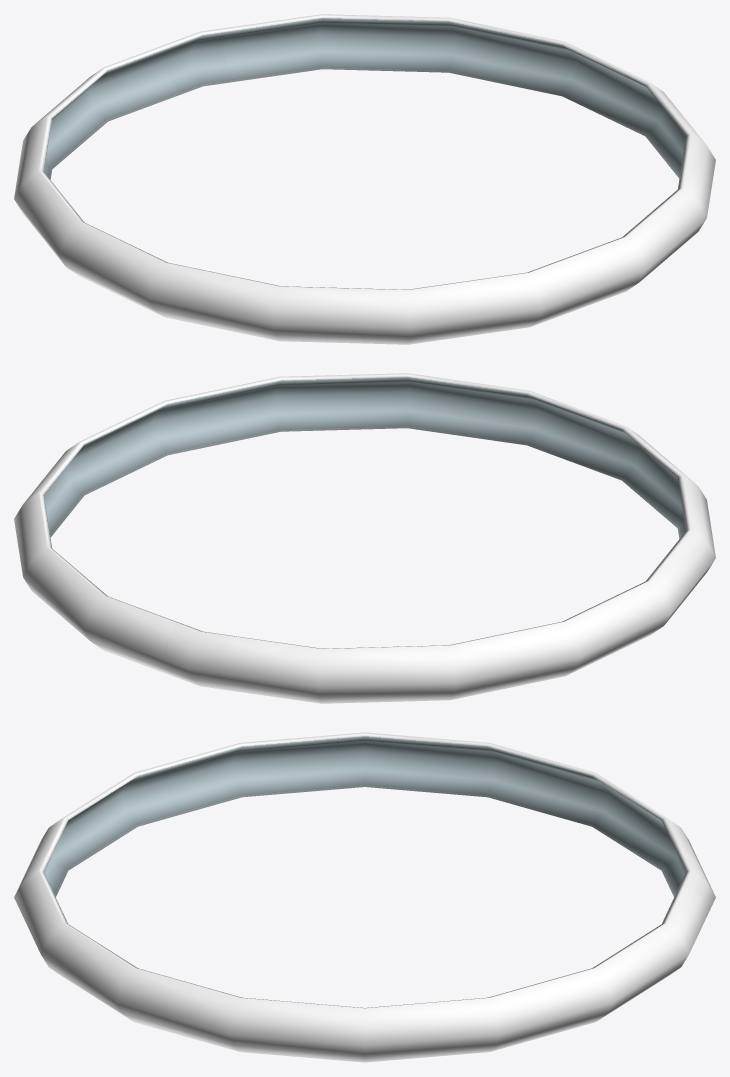
File: impact_cloud_circle.fbx
3 renders of one model, top to bottom at view 1: azimuth 30°, elevation 25°; view 2: azimuth 150°, elevation 25°; view 3: azimuth 270°, elevation 25°, orthographic.
Visible parts, largest first — view 1: Cylinder.001; view 2: Cylinder.001; view 3: Cylinder.001.
Part boxes in pixels (x1=…): Cylinder.001: x1=14, y1=14, x2=715, y2=344; Cylinder.001: x1=14, y1=373, x2=715, y2=703; Cylinder.001: x1=14, y1=732, x2=715, y2=1062.
Bounding box in the file's own units: 337 × 28.65 × 337.
1 material, 1 textured.
